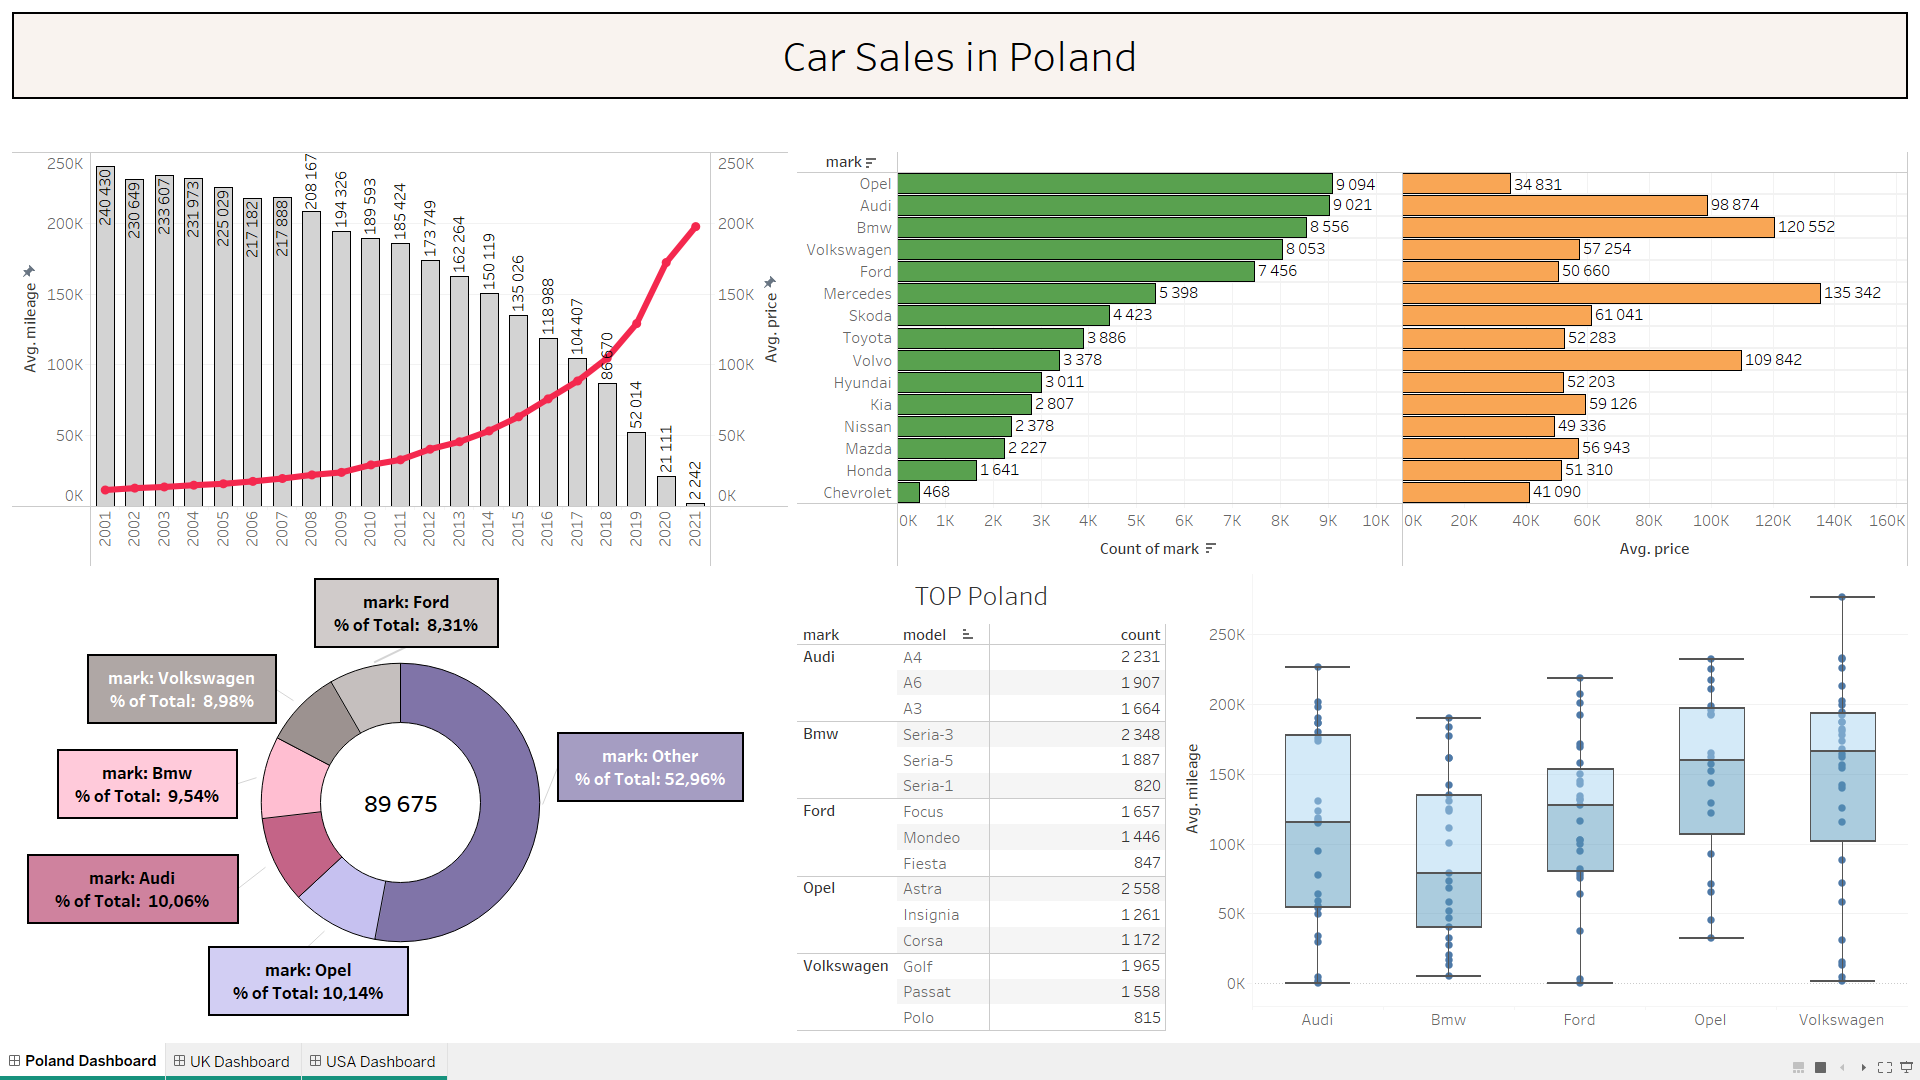

The page's visual inventory and layout, read from the dashboard file:
{"tool":"tableau","page":{"name":"Poland Dashboard","canvas":[1000,1000],"units":"permille","ordinal":0},"visuals":[{"type":"text","box":[4.8,9.3,990.3,90.4]},{"type":"blank","box":[4.8,99.7,990.3,43]},{"type":"worksheet","title":"5) Cars Bar/Line PL","mark":"Automatic","rows":["mileage","price"],"cols":["Calculation_234750171515437056"],"box":[4.8,142.6,408.4,404.1]},{"type":"worksheet","title":"3) Sold/Avg Barplot PL","mark":"Automatic","rows":["mark"],"cols":["mark","price"],"box":[413.3,142.6,581.9,403.9]},{"type":"worksheet","title":"1) TOP Poland","mark":"Automatic","rows":["mark","model"],"box":[413.3,546.6,196,444.2]},{"type":"worksheet","title":"2) Boxplot PL","mark":"Circle","rows":["mileage"],"cols":["mark"],"box":[609.2,546.6,385.9,444.2]},{"type":"worksheet","title":"4) Donut PL","mark":"Pie","rows":["mark","mark"],"box":[4.8,546.7,408.4,444]}]}

Visuals, with their boxes on the dashboard's canvas, which has no fixed pixel size, in thousandths of its width and height (x1, y1, x2, y2). These are canvas units, not pixel positions in the 1920x1080 screenshot, which may show the page scaled, cropped or inside an application window:
text: (5, 9, 995, 100)
blank: (5, 100, 995, 143)
"5) Cars Bar/Line PL" worksheet: (5, 143, 413, 547)
"3) Sold/Avg Barplot PL" worksheet: (413, 143, 995, 546)
"1) TOP Poland" worksheet: (413, 547, 609, 991)
"2) Boxplot PL" worksheet (Circle marks): (609, 547, 995, 991)
"4) Donut PL" worksheet (Pie marks): (5, 547, 413, 991)
